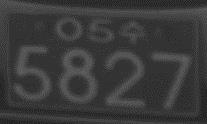0: (55, 15, 83, 42)
2: (103, 49, 146, 108)
5: (11, 45, 51, 102), (87, 17, 114, 43)
7: (150, 50, 192, 111)
8: (58, 48, 98, 103)
수: (119, 17, 147, 42)
